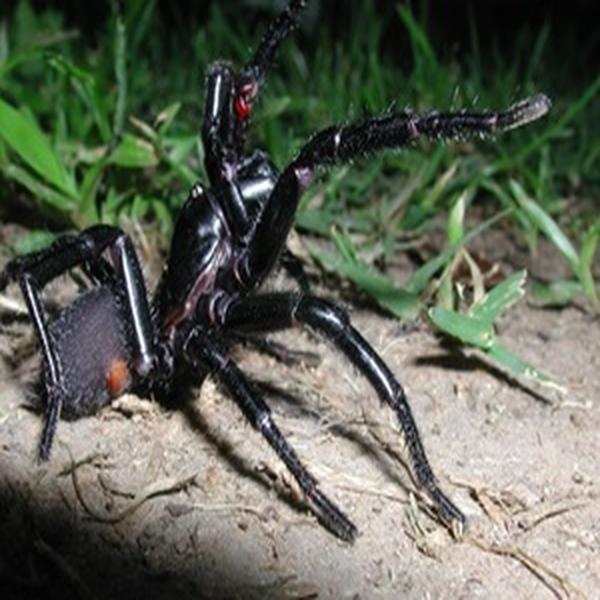Funnel Web Spider: (20, 50, 551, 533)
